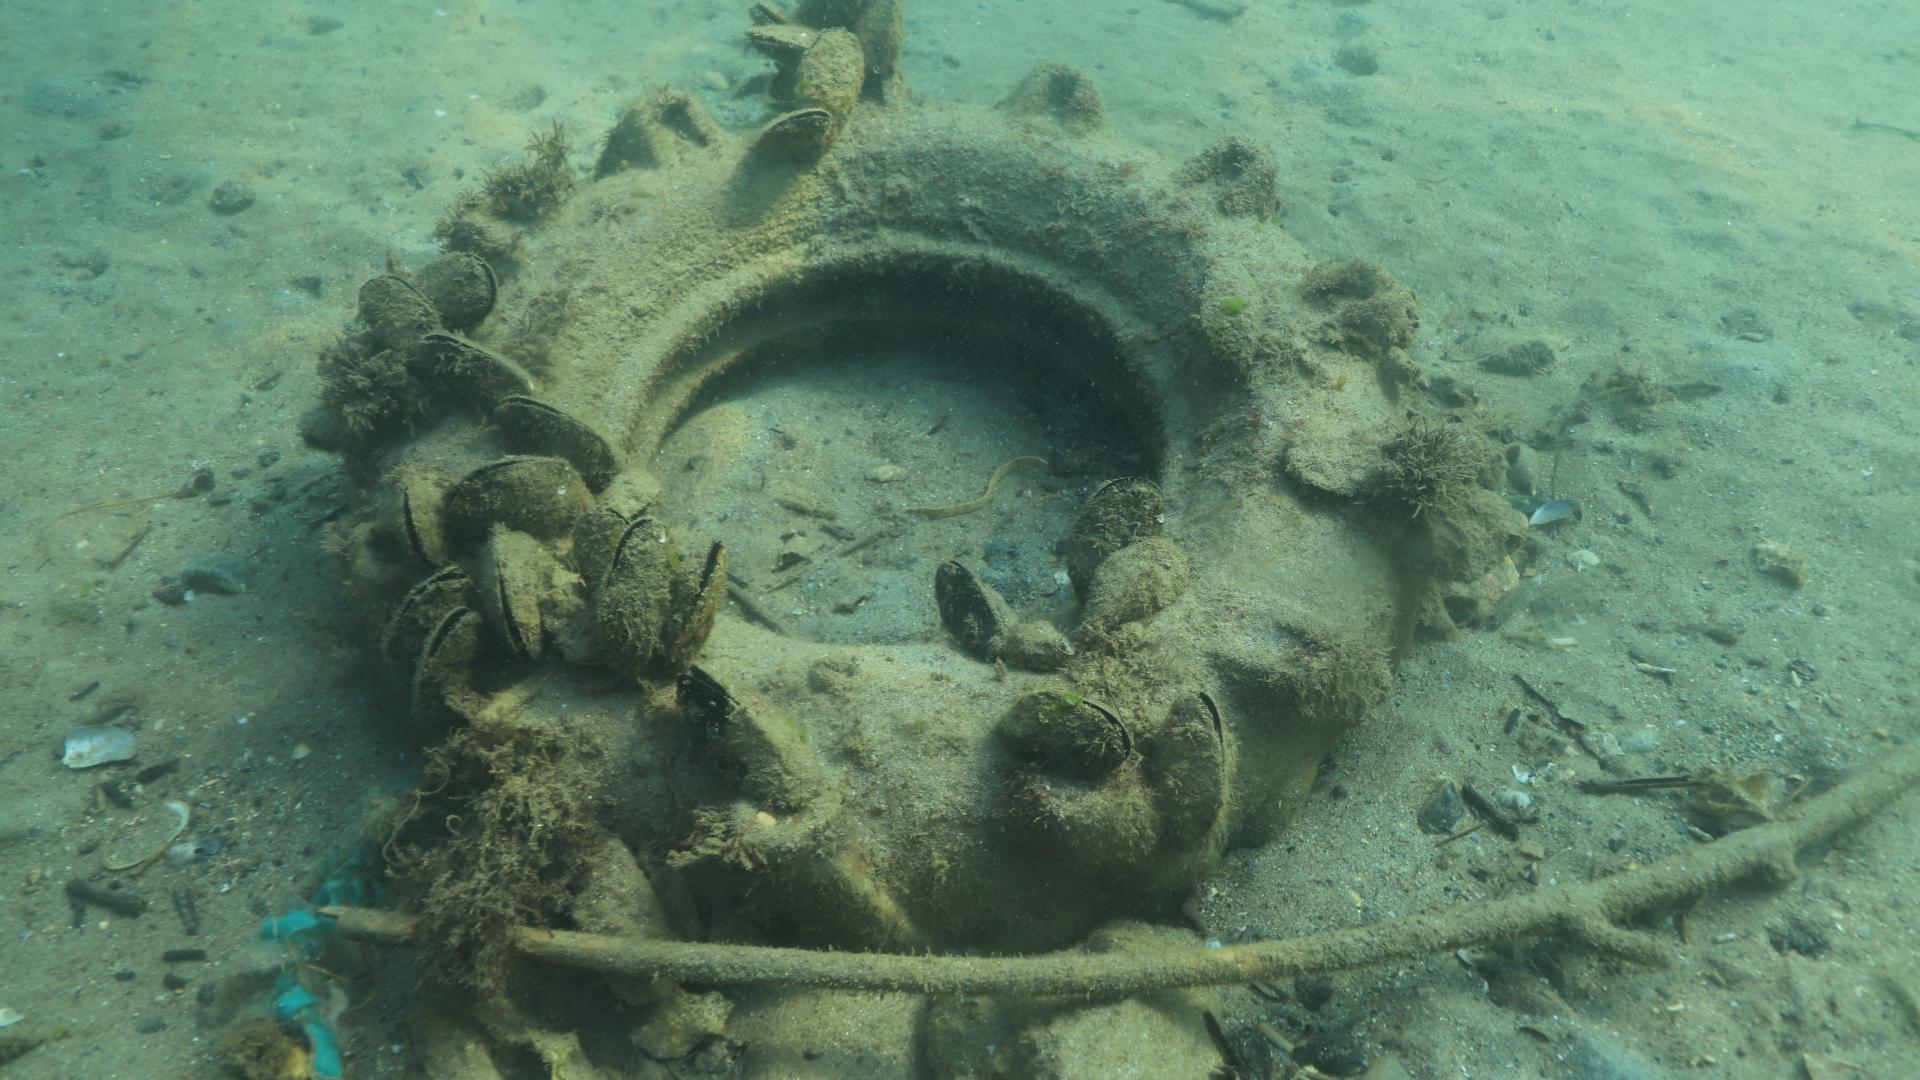tire: (334, 61, 1422, 945)
